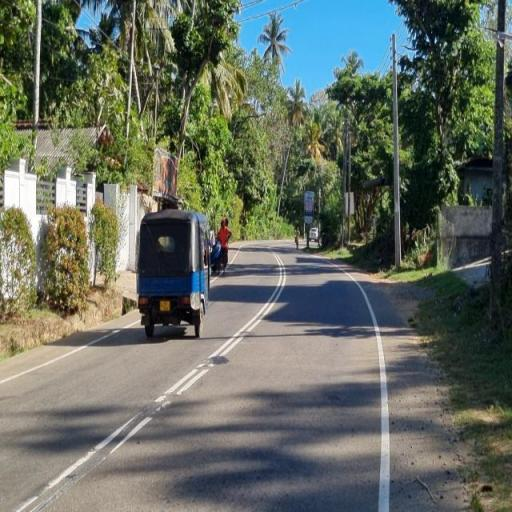double_white_line: (158, 256, 288, 407)
